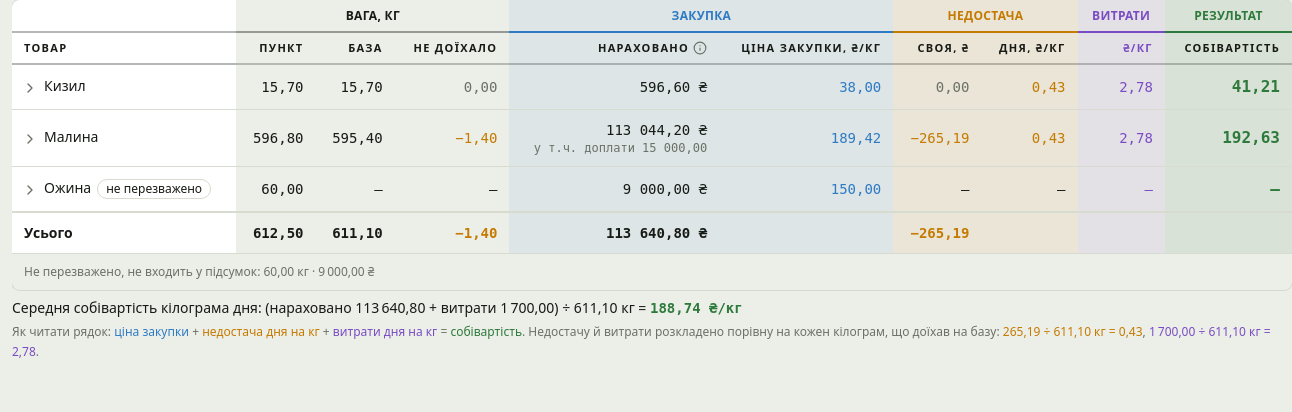
Scenario: CostTable › dashes a product not reweighed in full and reports it under the total
This screenshot has width=1292, height=412.
Expected: the text "не перезважено" is shown, [97,179,211,199]
Expected: the row "Усього 612,50 611,10 −1,40 113 640,80 ₴ −265,19" is shown, [12,212,1291,254]
Its chain stops at what the point knows: the purchase price.
Click the button named "Показати сорти: Ожина": (30,190) [20,180,40,200]
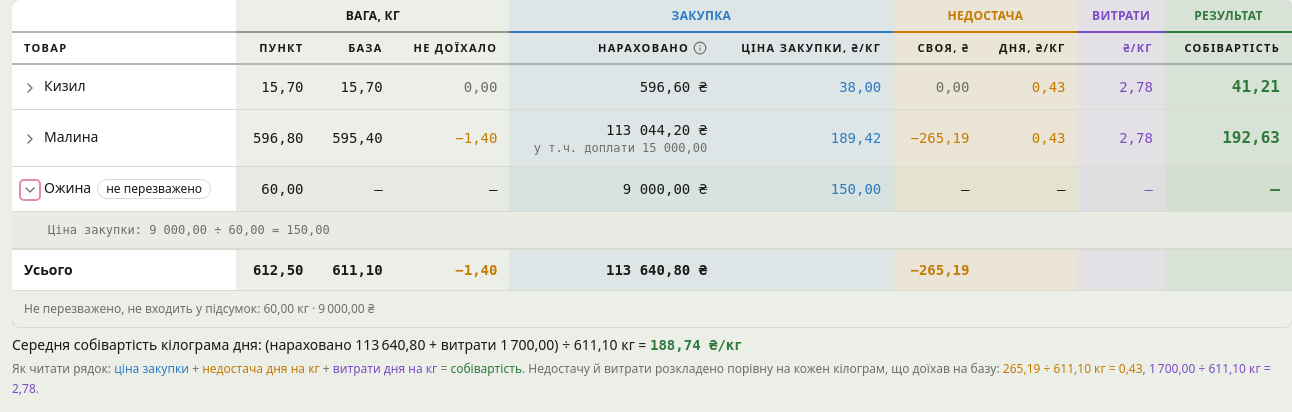
Now the list items read "Ціна закупки: 9 000,00 ÷ 60,00 = 150,00", in this order, box [48,222,330,238]
